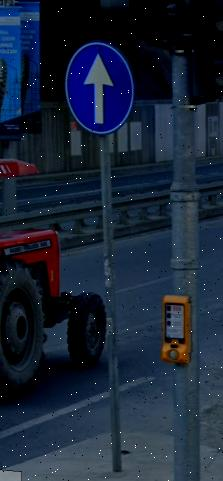forward: (67, 44, 133, 133)
